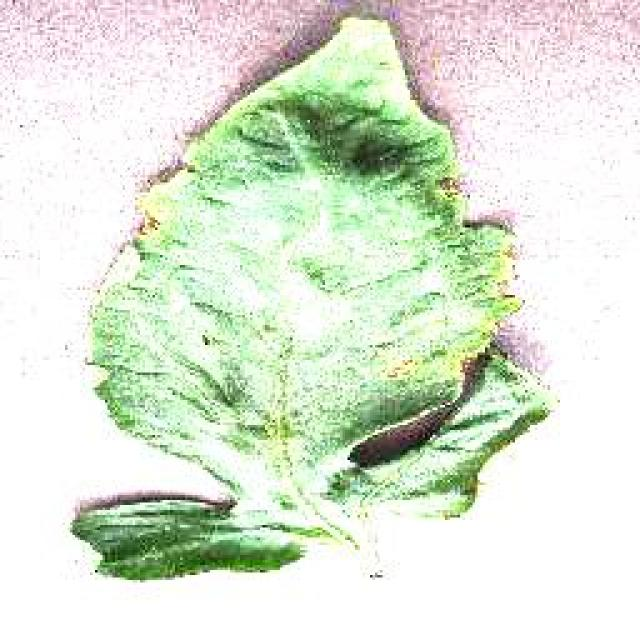Tomato___Target_Spot: (72, 18, 548, 578)
